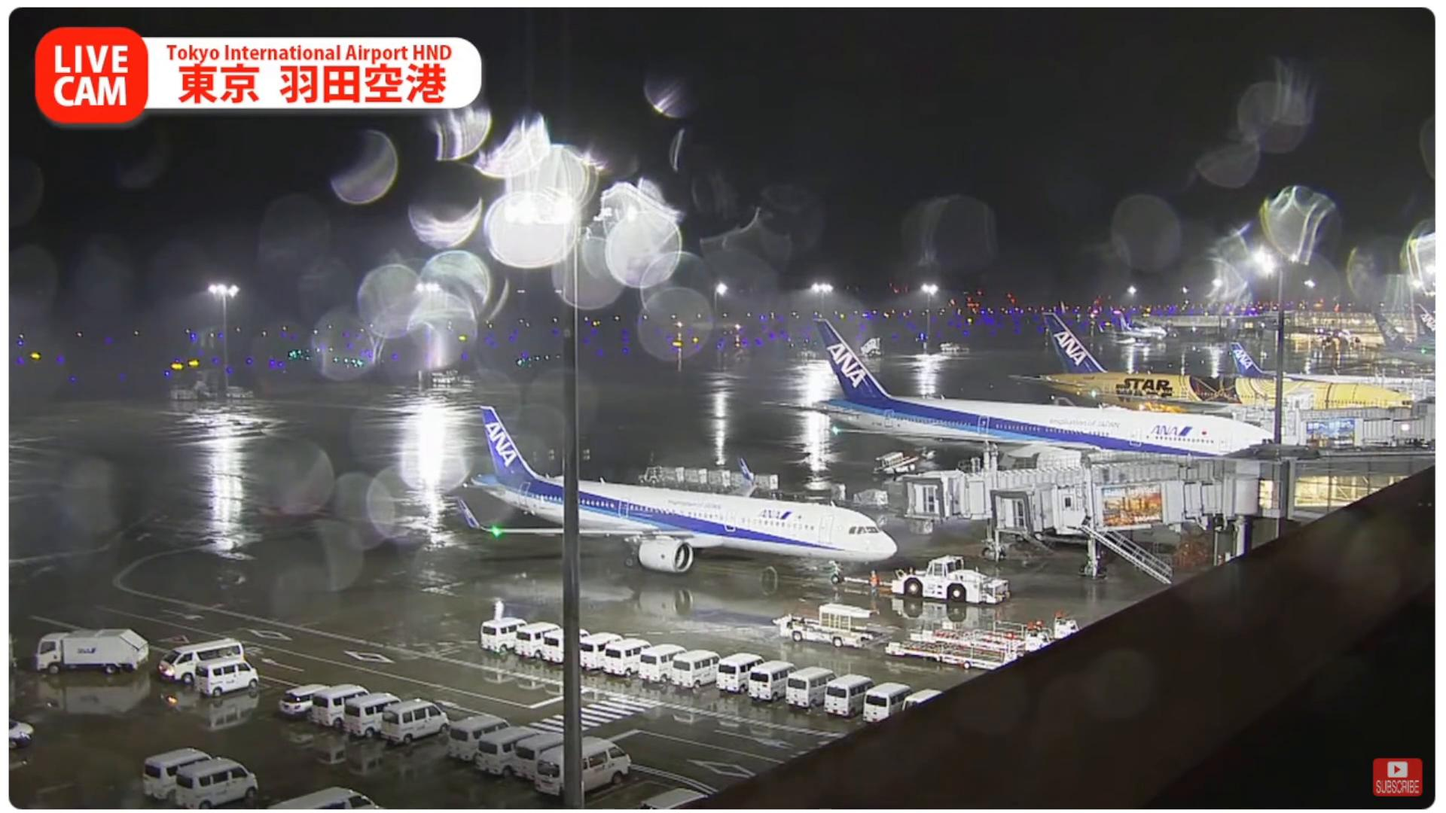APS: (887, 554, 1009, 608)
Aerobridge: (898, 461, 1193, 525), (988, 473, 1227, 539)
Airplane: (458, 404, 896, 584)
Baggage truck: (34, 626, 152, 676)
JCPL: (914, 608, 1086, 654), (884, 636, 1033, 667)
Skyloader: (771, 602, 883, 649)
Window: (1289, 476, 1414, 509)
